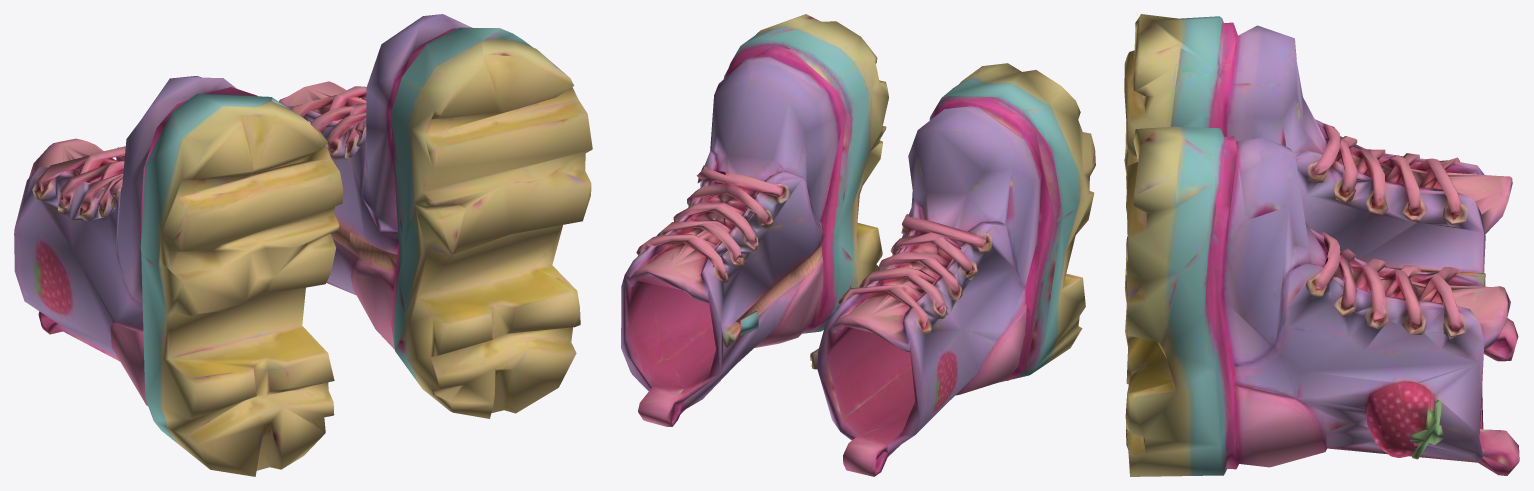
The picture shows the model from 3 angles, left to right: view 1: azimuth 30°, elevation 25°; view 2: azimuth 150°, elevation 25°; view 3: azimuth 270°, elevation 25°; orthographic projection. The views are drawn at different scales.
Parts seen in each view (by area): view 1: material; view 2: material; view 3: material.
Boxes of the visible parts, box(x1,y1,x2,y2) form: material: box(14, 14, 592, 476); material: box(621, 14, 1095, 476); material: box(1124, 14, 1519, 476).
Size of the model in its own units: 1 by 0.8175 by 0.873.
1 material, 1 textured.
